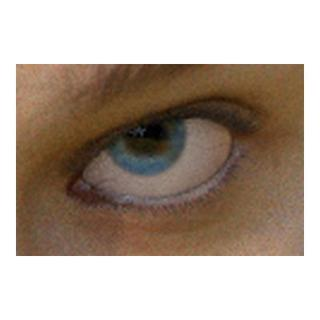pupil: (129, 117, 163, 151)
